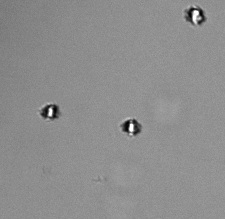Living Cell: (183, 5, 207, 25), (121, 116, 142, 138), (39, 101, 60, 120)
